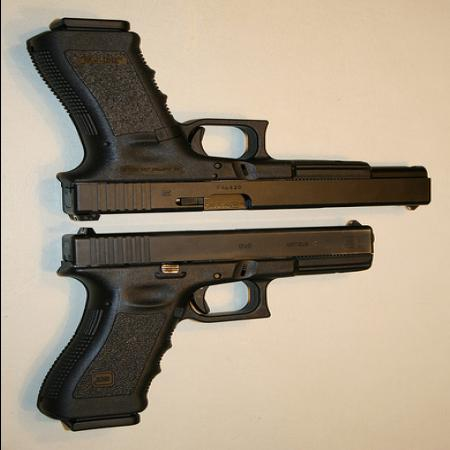Pistol: (27, 18, 432, 223), (35, 222, 375, 437)
